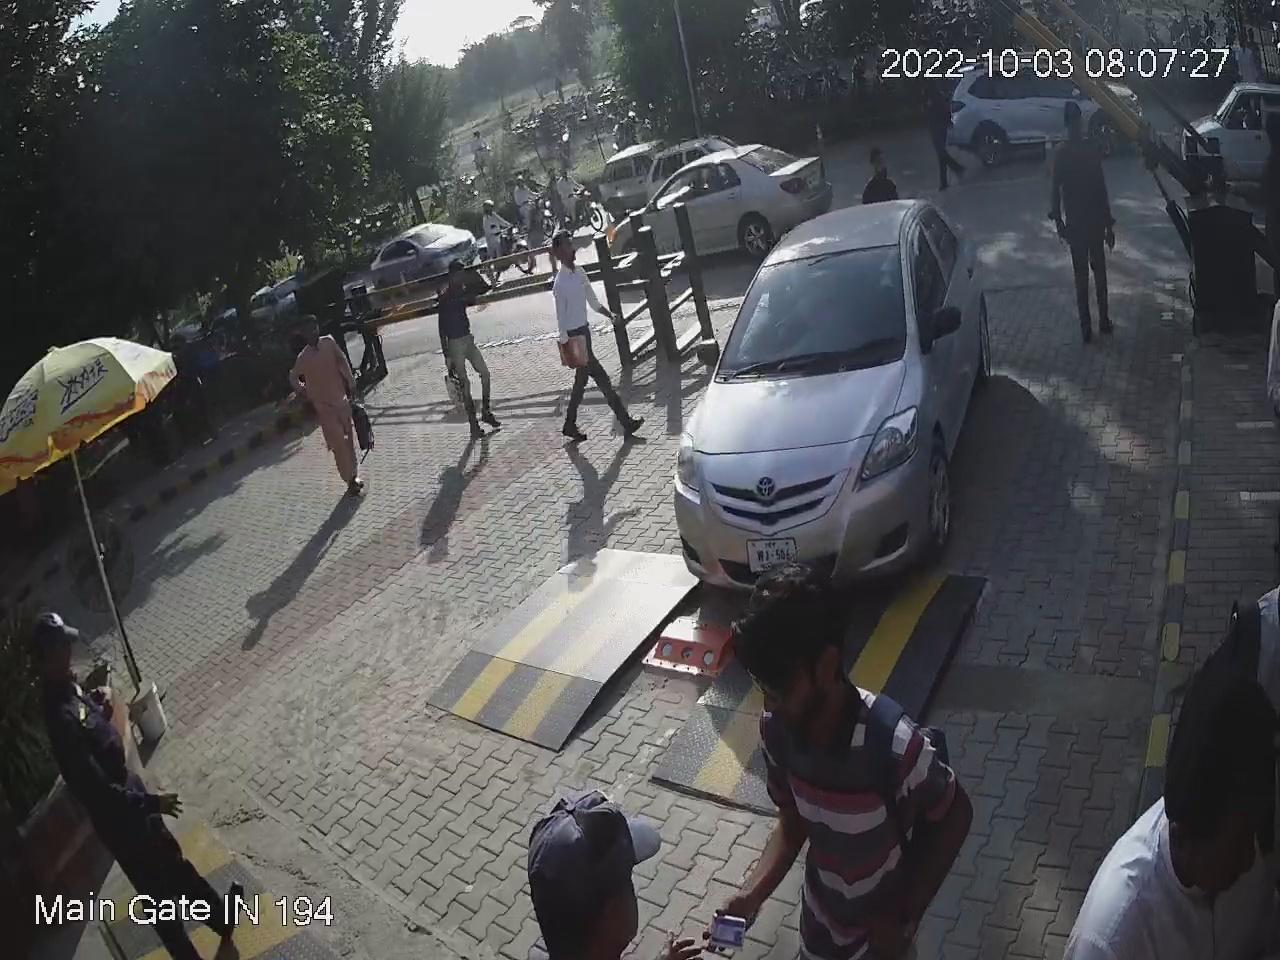windshield: (713, 238, 910, 385)
